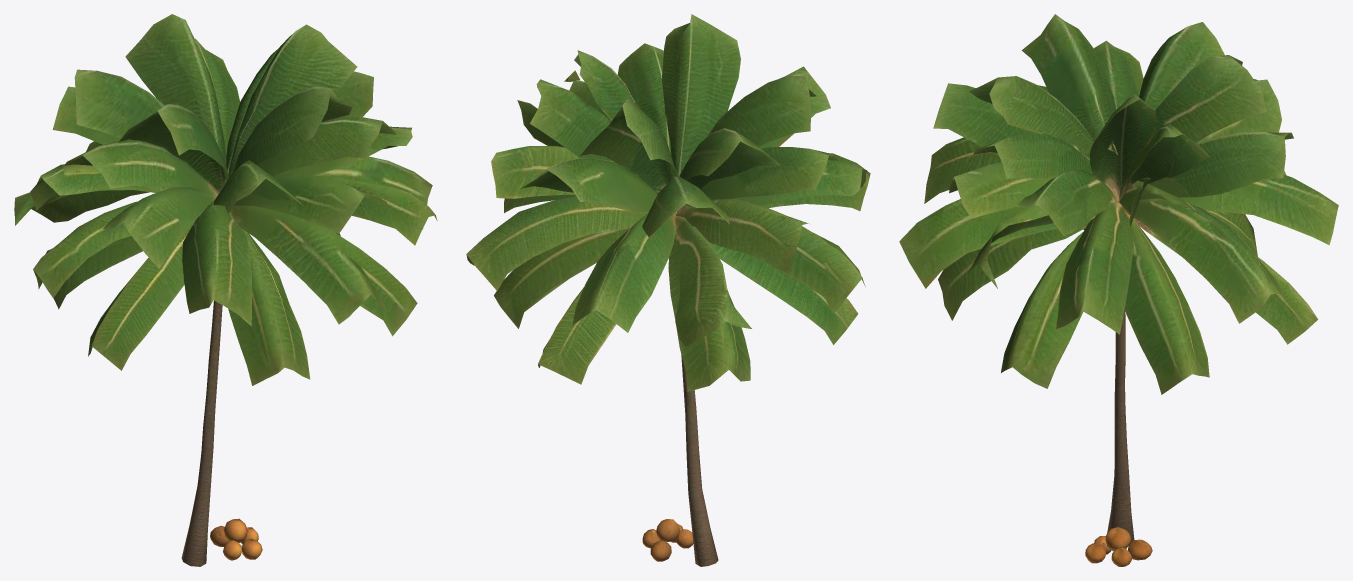
The model's file is meshy-palm.glb.
The picture shows the model from 3 angles, left to right: view 1: azimuth 30°, elevation 25°; view 2: azimuth 150°, elevation 25°; view 3: azimuth 270°, elevation 25°; orthographic projection. The views are drawn at different scales.
Size of the model in its own units: 0.7965 by 1 by 0.7938.
1 material, 1 textured.
